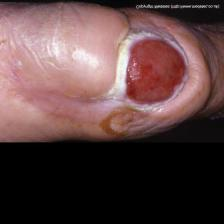Wound: (114, 13, 208, 125)
